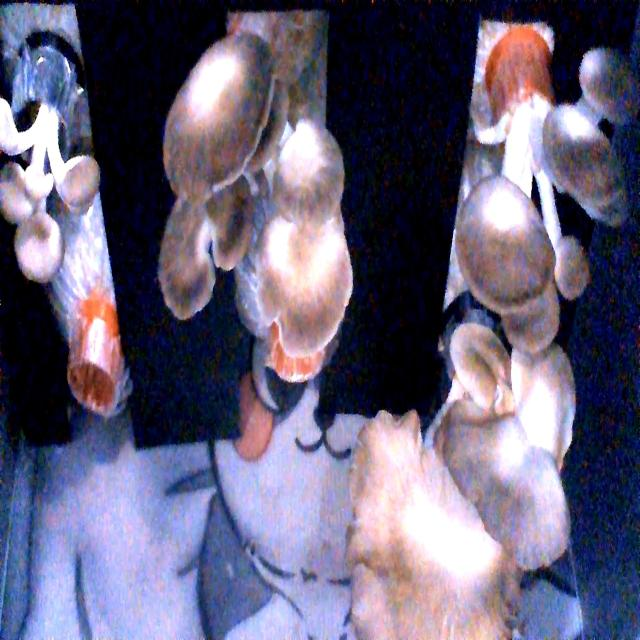big: (322, 342, 580, 640), (160, 47, 360, 380), (466, 70, 638, 366)
nfound: (70, 349, 118, 430)
small: (0, 66, 94, 294)
